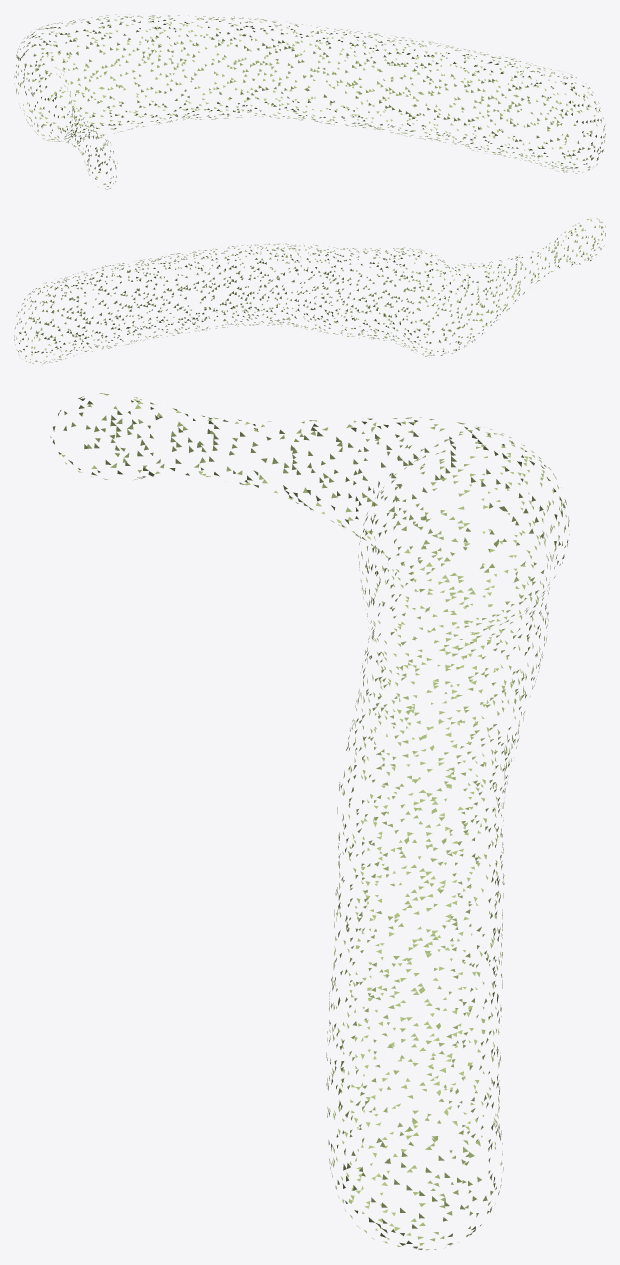
Rendered from morph_011.glb.
The picture shows the model from 3 angles, top to bottom: view 1: azimuth 30°, elevation 25°; view 2: azimuth 150°, elevation 25°; view 3: azimuth 270°, elevation 25°; orthographic projection. The views are drawn at different scales.
Size of the model in its own units: 133 by 53.4 by 60.68.
